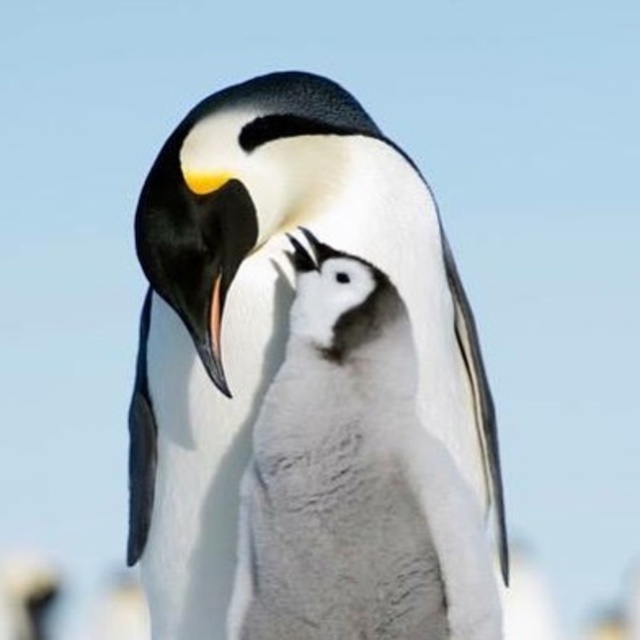Penguin: (235, 229, 506, 638)
